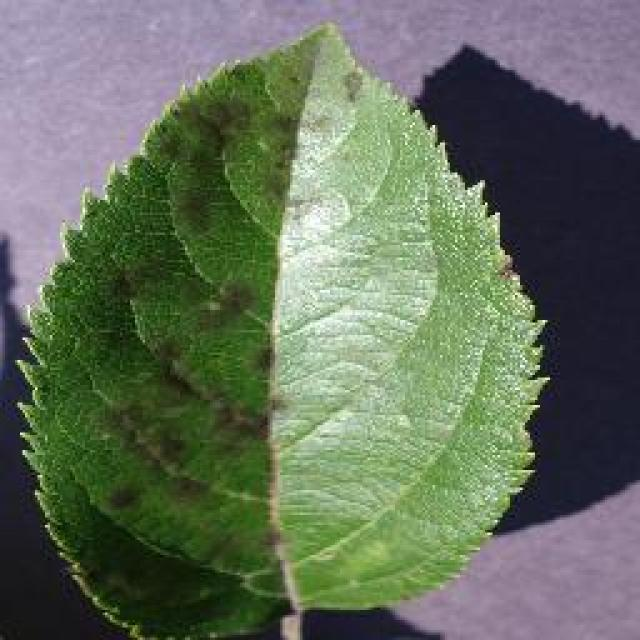apple scab disease: (12, 18, 550, 638)
